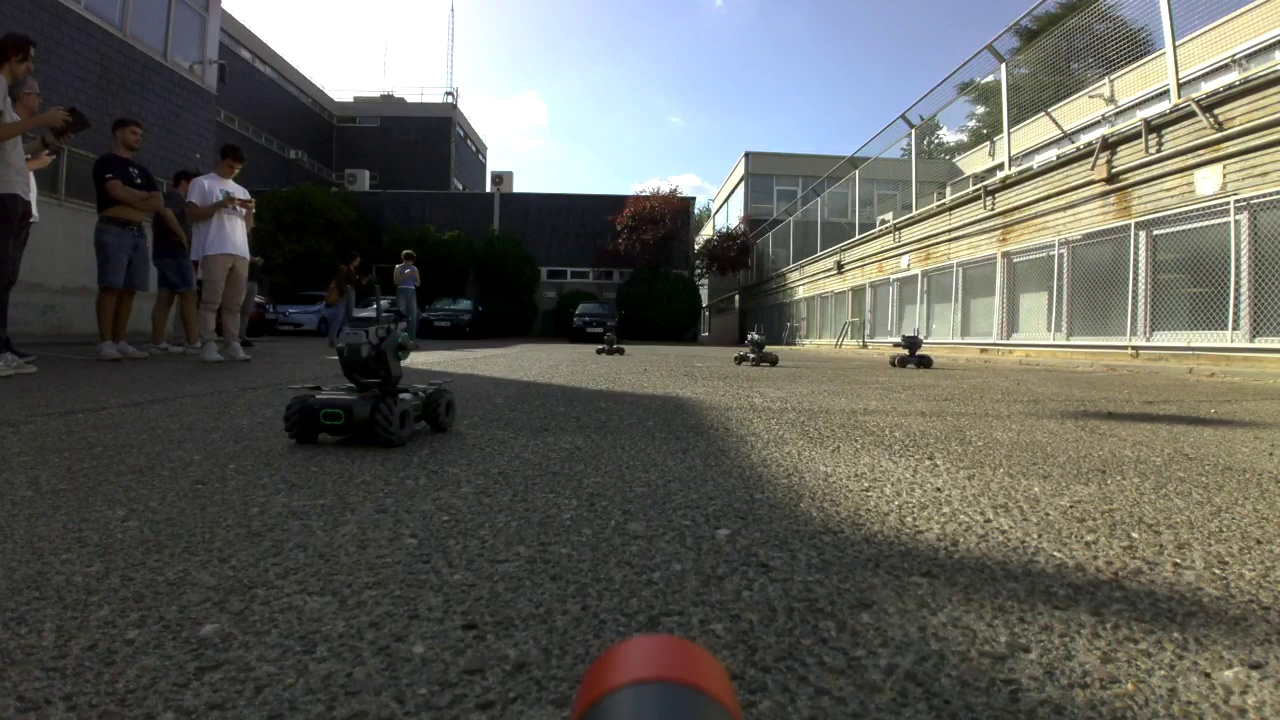robot: (283, 284, 456, 450), (733, 324, 779, 369), (890, 328, 934, 371), (595, 329, 627, 360)
